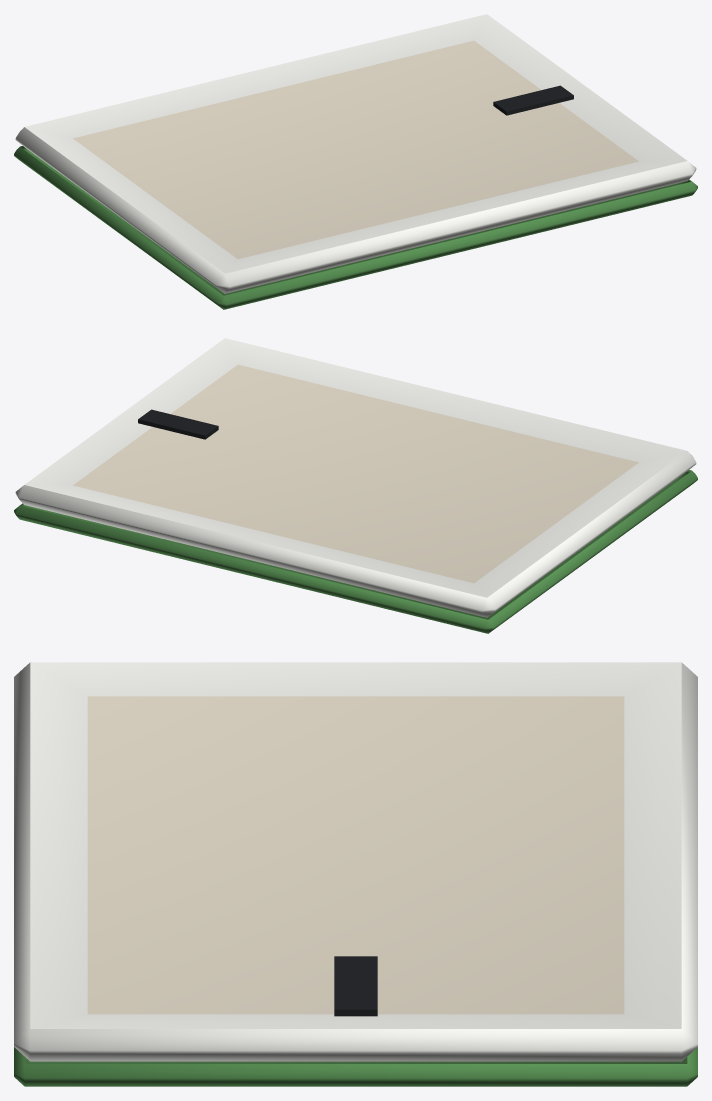
The model's file is SM_CuttingBoard_Com_01.glb.
3 renders of one model, top to bottom at view 1: azimuth 30°, elevation 25°; view 2: azimuth 150°, elevation 25°; view 3: azimuth 270°, elevation 25°, orthographic. The views are drawn at different scales.
Visible parts, largest first — view 1: SM_CuttingBoard_Com_01; view 2: SM_CuttingBoard_Com_01; view 3: SM_CuttingBoard_Com_01.
Part boxes in pixels (x1,y1,x2,y2): SM_CuttingBoard_Com_01: [14, 14, 697, 309]; SM_CuttingBoard_Com_01: [14, 338, 697, 633]; SM_CuttingBoard_Com_01: [14, 662, 697, 1086].
Size of the model in its own units: 0.5 by 0.036 by 0.38.
1 material, 1 textured.
